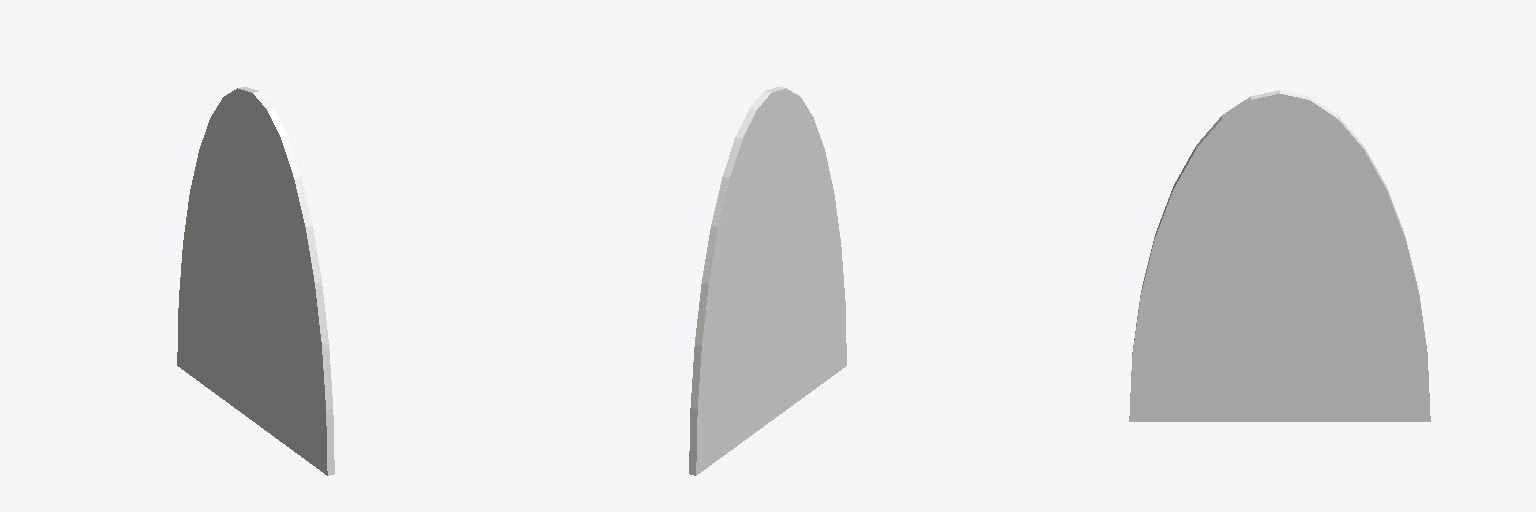
Rendered from PortalInvernaderoFondo.obj.
3 views of the same model, side by side, from view 1: azimuth 30°, elevation 25°; view 2: azimuth 150°, elevation 25°; view 3: azimuth 270°, elevation 25° (orthographic).
Visible parts, largest first — view 1: Plane.001; view 2: Plane.001; view 3: Plane.001.
Boxes of the visible parts, x1=… form: Plane.001: x1=177, y1=87, x2=334, y2=475; Plane.001: x1=689, y1=87, x2=846, y2=475; Plane.001: x1=1129, y1=90, x2=1430, y2=421.
Bounding box in the file's own units: 0.1172 × 4.96 × 4.12.